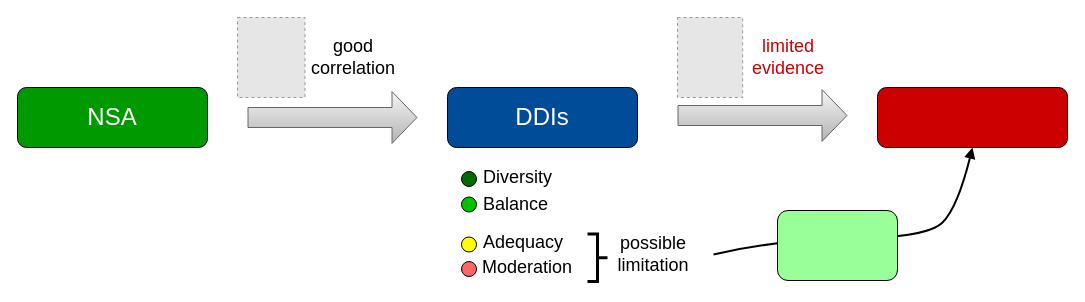
Some shapes in this 1085 by 302 pixel diagram are drawn without their labels. Grey dashed boxes stand in for pictures. The shapes that lost their labels are listed below. From the top down, each one's centre as x and y in pixels, then its label:
[972,117]: Health Impact
[837,245]: possible improvement through NFA
